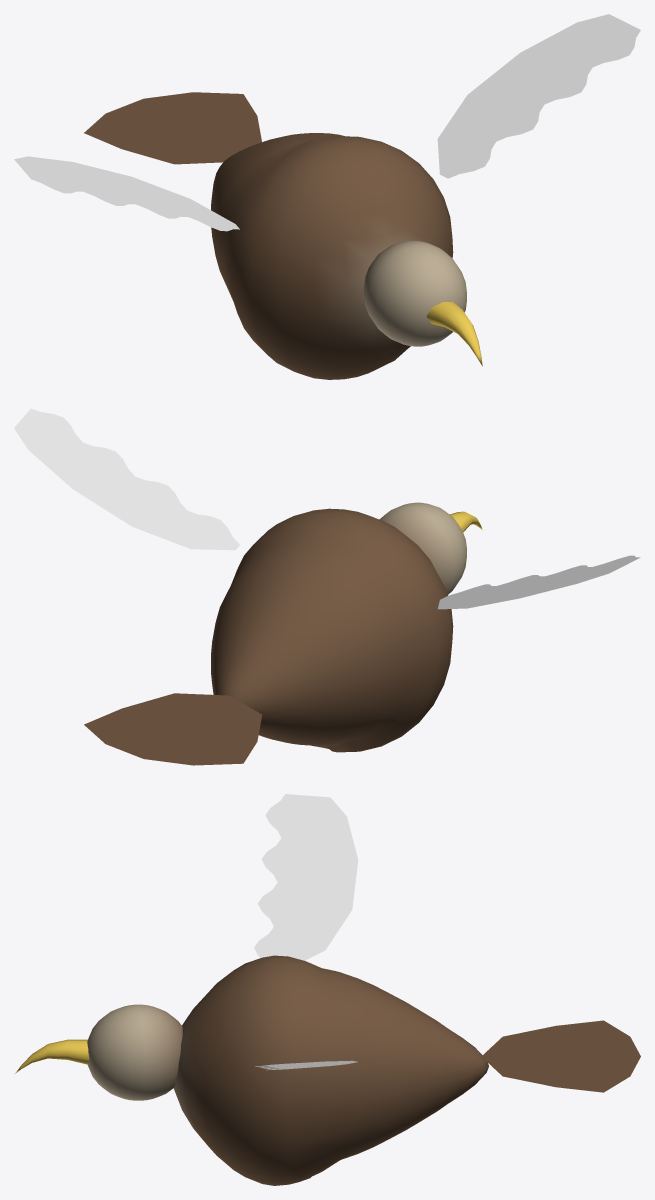
Rendered from bird_vcol.glb.
The picture shows the model from 3 angles, top to bottom: view 1: azimuth 30°, elevation 25°; view 2: azimuth 150°, elevation 25°; view 3: azimuth 270°, elevation 25°; orthographic projection. The views are drawn at different scales.
Parts seen in each view (by area): view 1: bird_body, bird_wings; view 2: bird_body, bird_wings; view 3: bird_body, bird_wings.
Part boxes in pixels (left/top/right/bottom): bird_body: left=84, top=92, right=482, bottom=379; bird_wings: left=14, top=14, right=640, bottom=231; bird_body: left=84, top=502, right=482, bottom=765; bird_wings: left=14, top=408, right=640, bottom=609; bird_body: left=14, top=955, right=640, bottom=1185; bird_wings: left=254, top=794, right=358, bottom=1070.
Size of the model in its own units: 1.22 by 0.5074 by 1.18.
